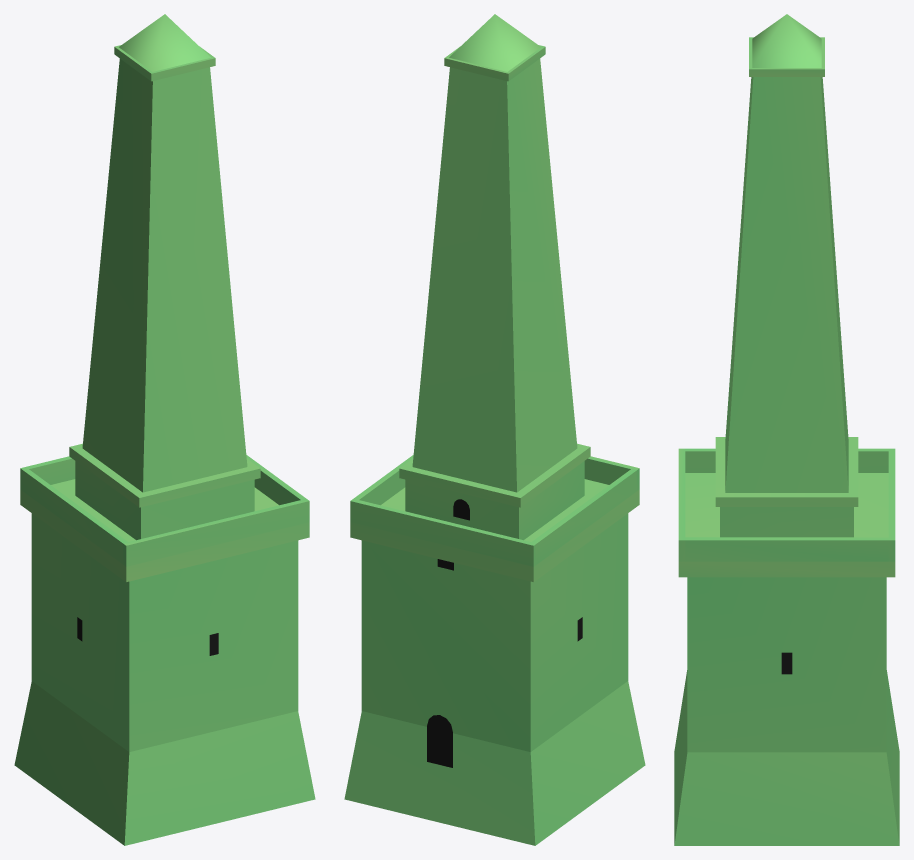
File: stoodley.glb
3 views of the same model, side by side, from view 1: azimuth 30°, elevation 25°; view 2: azimuth 150°, elevation 25°; view 3: azimuth 270°, elevation 25° (orthographic). The views are drawn at different scales.
Parts seen in each view (by area): view 1: pike#far; view 2: pike#far, windows; view 3: pike#far.
Part boxes in pixels (x1=…): pike#far: x1=14, y1=14, x2=315, y2=845; pike#far: x1=344, y1=14, x2=645, y2=845; windows: x1=427, y1=499, x2=582, y2=767; pike#far: x1=674, y1=14, x2=899, y2=845.
Size of the model in its own units: 10.4 by 40 by 10.4.
